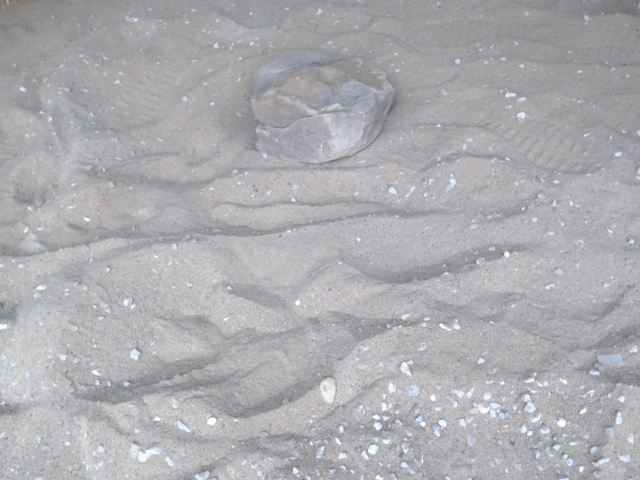rock: (243, 44, 402, 173)
